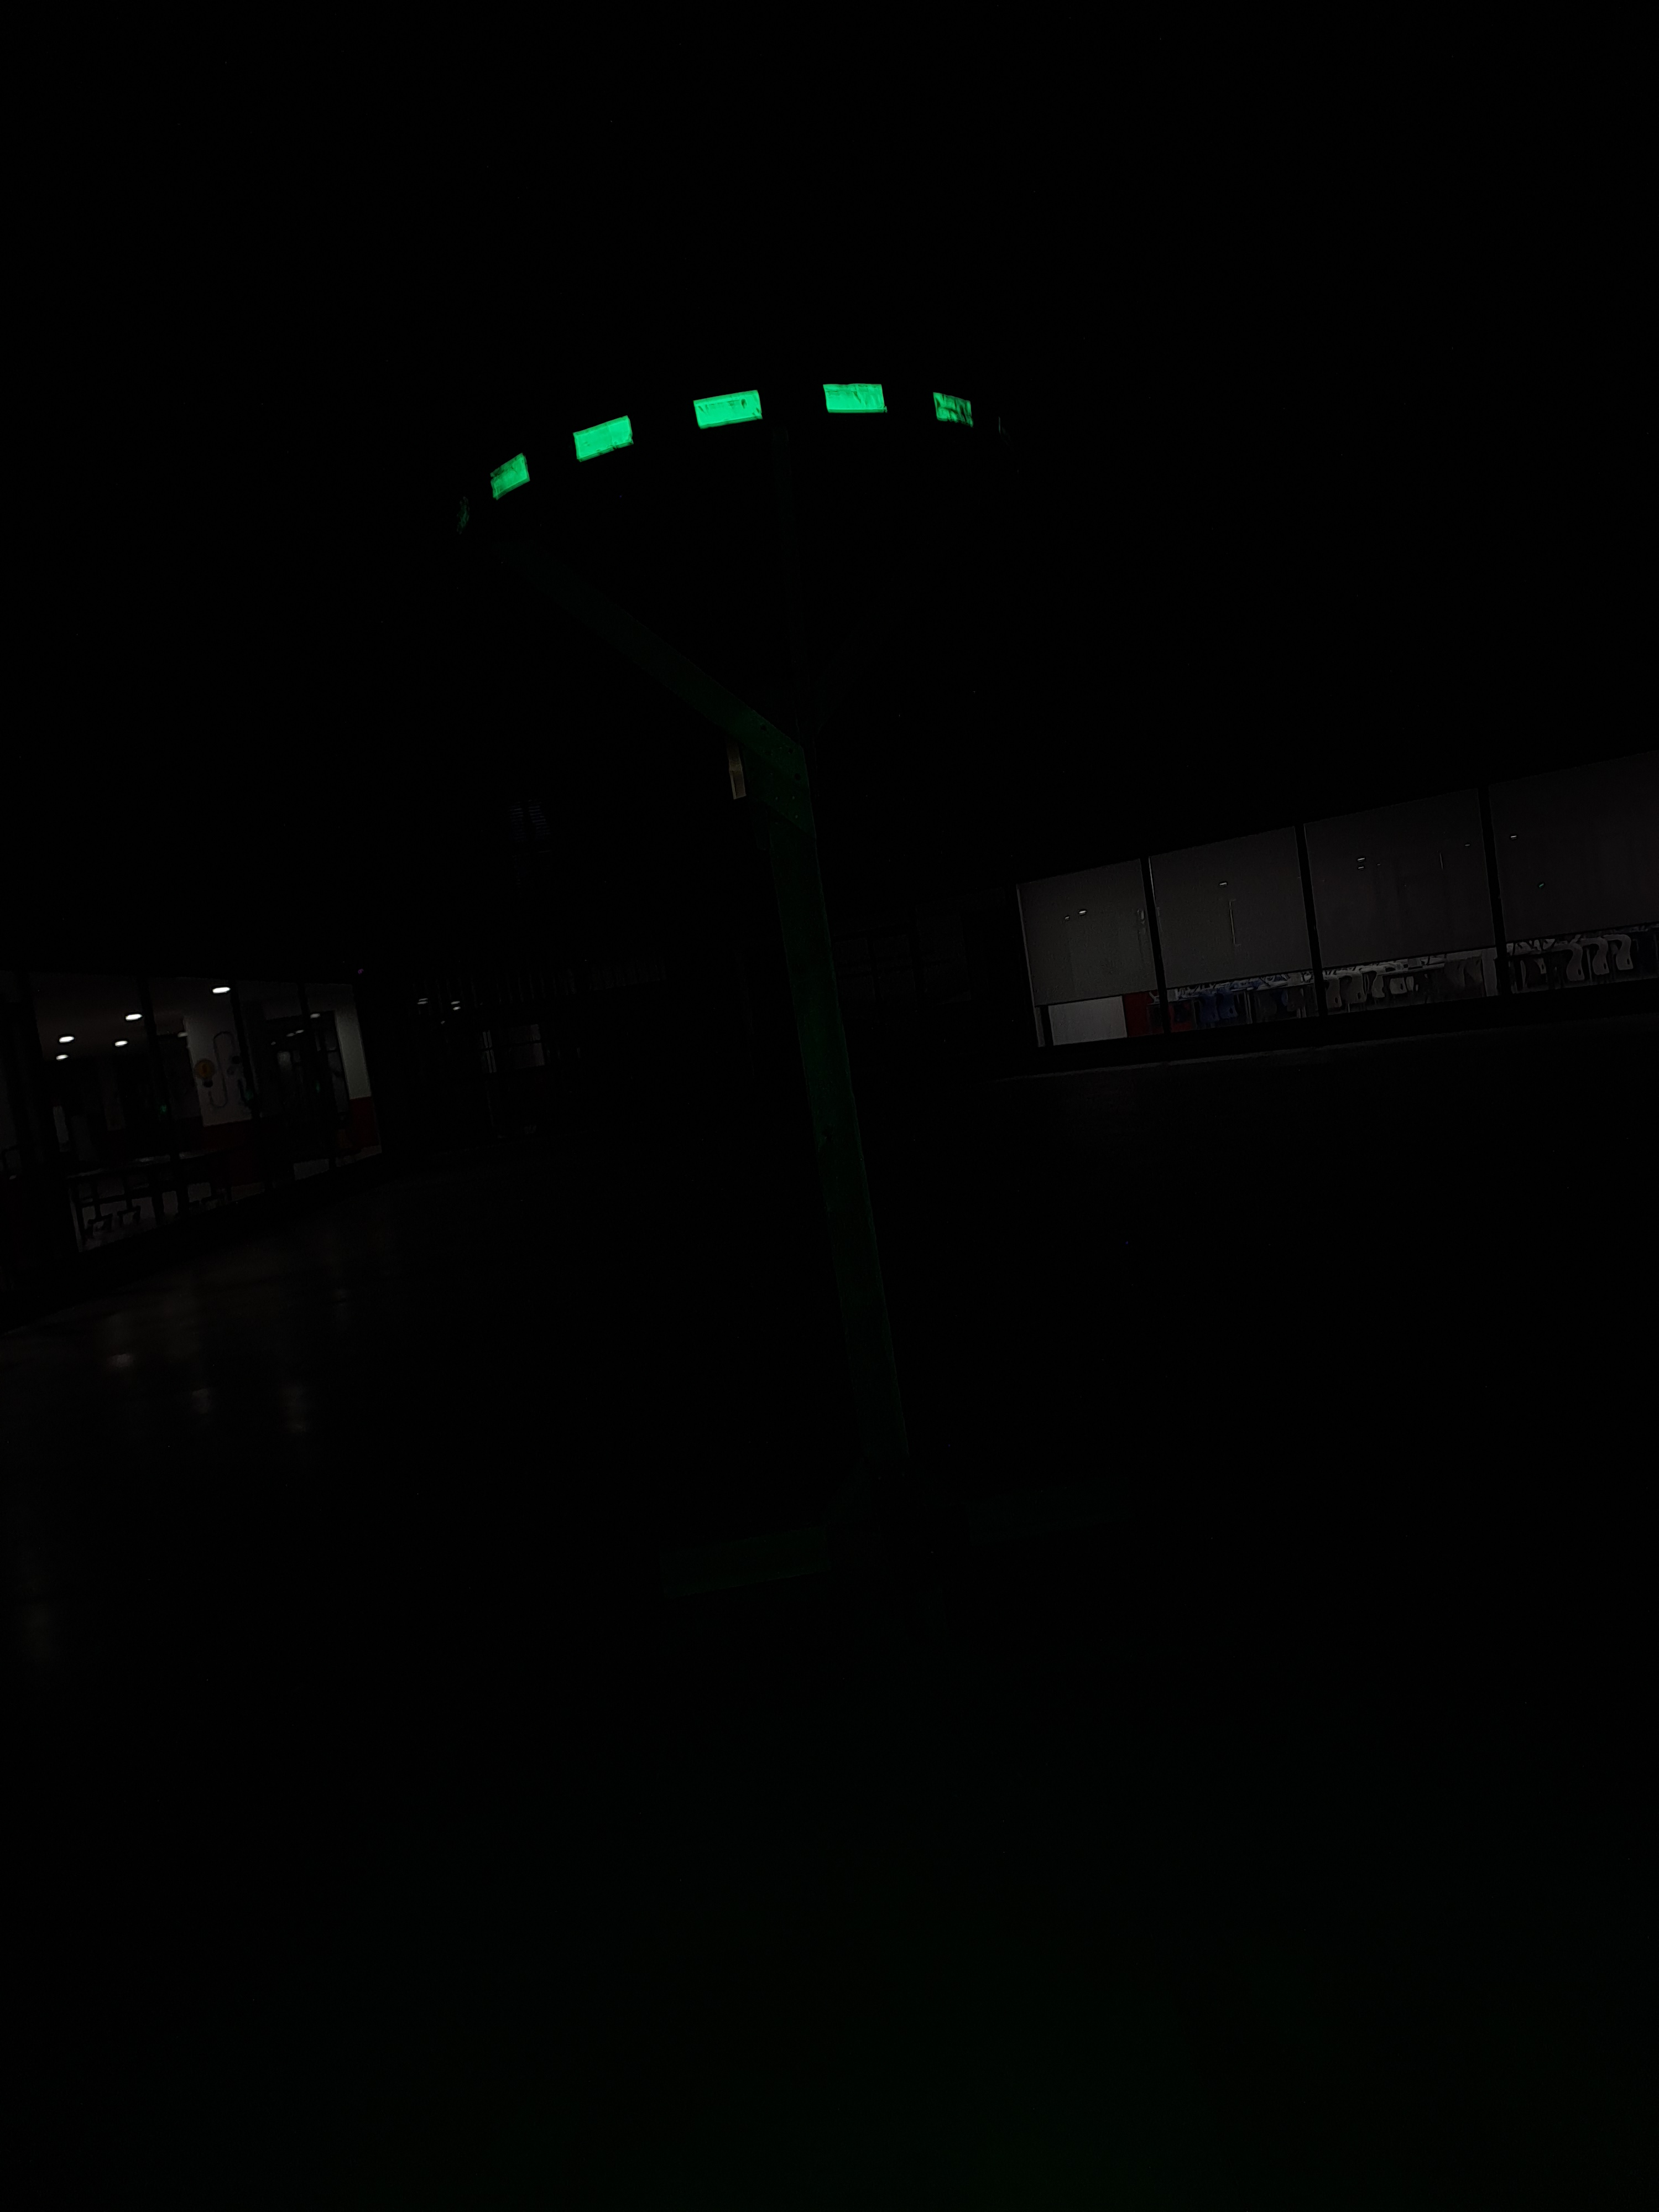hoop: (493, 371, 979, 507)
